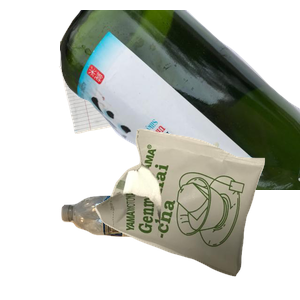glass: (60, 10, 300, 190)
paper: (56, 40, 229, 166)
plastic: (59, 193, 241, 300)
trash: (93, 126, 300, 300)
